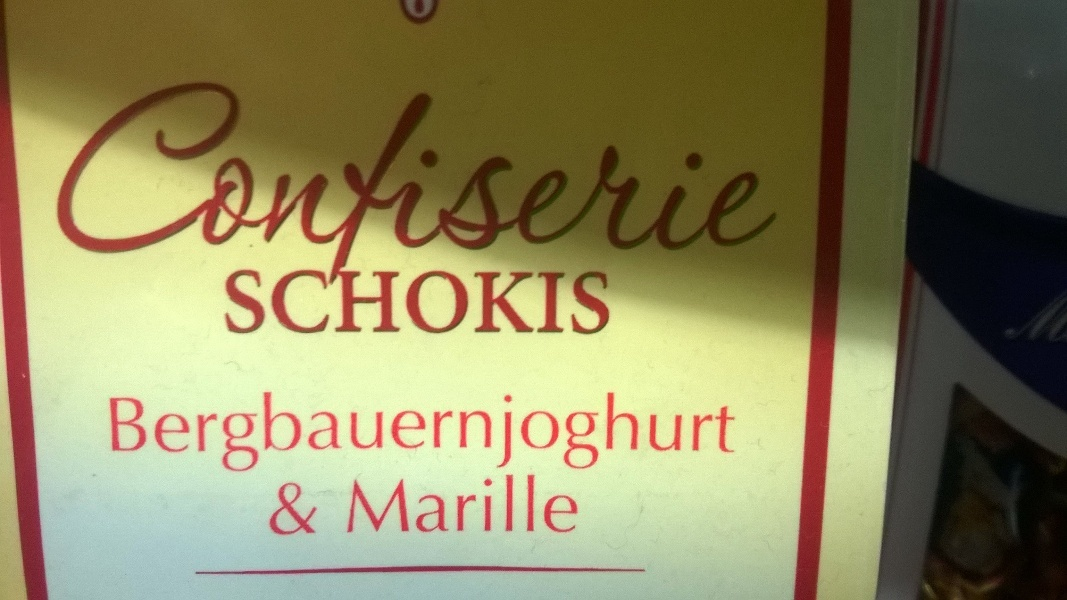text: (81, 78, 96, 283), (97, 78, 112, 283), (113, 78, 128, 283), (129, 78, 144, 283), (145, 78, 160, 283), (161, 78, 176, 283), (177, 78, 192, 283), (193, 78, 208, 283), (209, 78, 224, 283), (225, 78, 240, 283), (241, 78, 256, 283), (257, 78, 272, 283), (273, 78, 288, 283), (289, 78, 304, 283), (305, 78, 320, 283), (321, 78, 336, 283), (337, 78, 352, 283), (353, 78, 368, 283), (369, 78, 384, 283), (385, 78, 400, 283), (401, 78, 416, 283), (417, 78, 432, 283), (433, 78, 448, 283), (449, 78, 464, 283), (465, 78, 480, 283), (481, 78, 496, 283), (497, 78, 512, 283), (513, 78, 528, 283), (529, 78, 544, 283), (545, 78, 560, 283), (561, 78, 576, 283), (577, 78, 592, 283), (593, 78, 608, 283), (609, 78, 624, 283), (625, 78, 640, 283), (641, 78, 656, 283), (657, 78, 672, 283), (673, 78, 688, 283), (689, 78, 704, 283), (705, 78, 720, 283), (721, 78, 736, 283), (737, 78, 752, 283), (753, 78, 768, 283), (769, 78, 784, 283), (785, 78, 794, 283), (72, 78, 80, 283), (113, 393, 128, 476), (129, 393, 144, 476), (145, 393, 160, 476), (161, 393, 176, 476), (177, 393, 192, 476), (193, 393, 208, 476), (209, 393, 224, 476), (225, 393, 240, 476), (241, 393, 256, 476), (257, 393, 272, 476), (273, 393, 288, 476), (289, 393, 304, 476), (305, 393, 320, 476), (321, 393, 336, 476), (337, 393, 352, 476), (353, 393, 368, 476), (369, 393, 384, 476), (385, 393, 400, 476), (401, 393, 416, 476), (417, 393, 432, 476), (433, 393, 448, 476), (449, 393, 464, 476), (465, 393, 480, 476), (481, 393, 496, 476), (497, 393, 512, 476), (513, 393, 528, 476), (529, 393, 544, 476), (545, 393, 560, 476), (561, 393, 576, 476), (577, 393, 592, 476), (593, 393, 608, 476), (609, 393, 624, 476), (625, 393, 640, 476), (641, 393, 656, 476), (657, 393, 672, 476), (673, 393, 688, 476), (689, 393, 704, 476), (705, 393, 720, 476), (721, 393, 736, 476), (241, 269, 256, 335), (257, 269, 272, 335), (273, 269, 288, 335), (289, 269, 304, 335), (305, 269, 320, 335), (321, 269, 336, 335), (337, 269, 352, 335), (353, 269, 368, 335), (369, 269, 384, 335), (385, 269, 400, 335), (401, 269, 416, 335), (417, 269, 432, 335), (433, 269, 448, 335), (449, 269, 464, 335), (465, 269, 480, 335), (481, 269, 496, 335), (497, 269, 512, 335), (513, 269, 528, 335), (529, 269, 544, 335), (545, 269, 560, 335), (561, 269, 576, 335), (577, 269, 592, 335), (593, 269, 608, 335), (226, 269, 240, 335), (369, 473, 384, 533), (385, 473, 400, 533), (401, 473, 416, 533), (417, 473, 432, 533), (433, 473, 448, 533), (449, 473, 464, 533), (465, 473, 480, 533), (481, 473, 496, 533), (497, 473, 512, 533), (513, 473, 528, 533), (529, 473, 544, 533), (545, 473, 560, 533), (561, 473, 576, 533), (289, 483, 304, 541), (356, 473, 368, 533), (305, 483, 317, 541), (281, 483, 288, 541), (109, 393, 112, 476), (609, 269, 612, 335), (737, 393, 738, 476), (577, 473, 578, 533)
